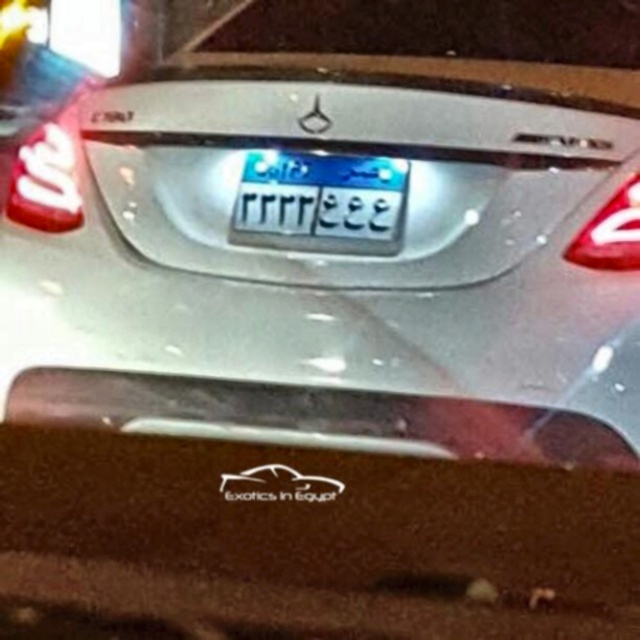License Plate: (225, 146, 413, 245)
